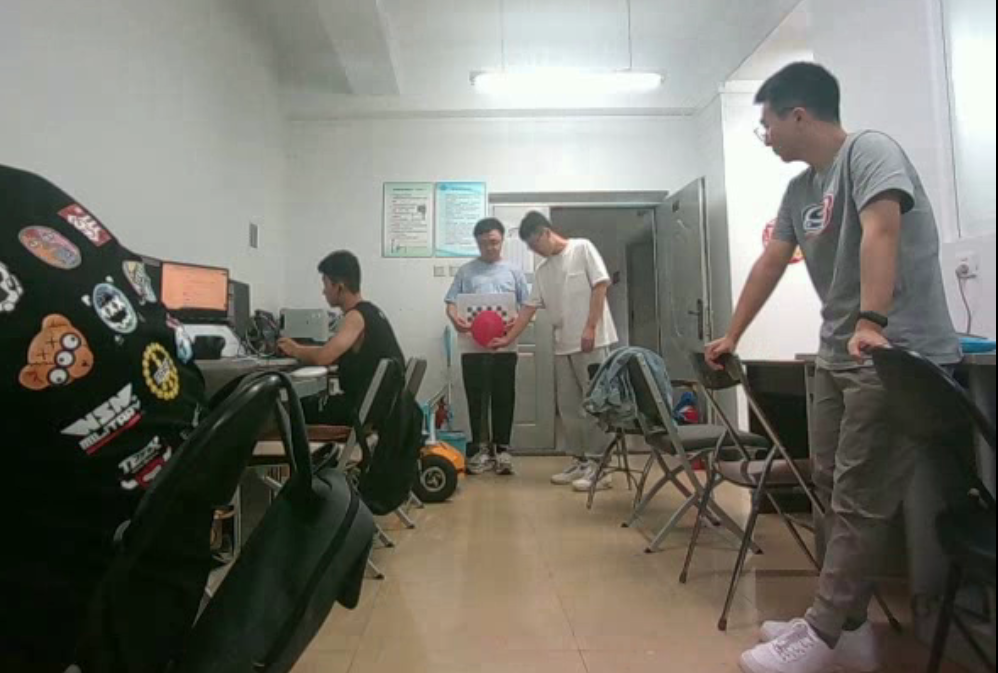balloon: (472, 310, 506, 349)
